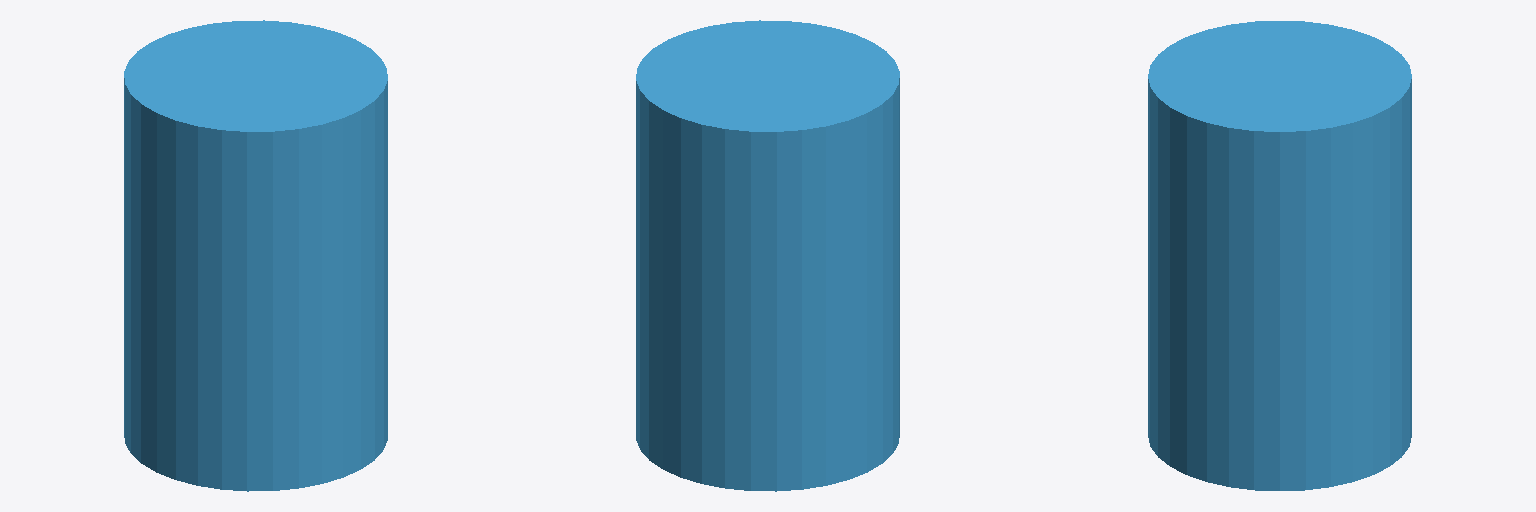
URDF robot description (hungry-toaster):
<robot name="hungry-toaster">
  <link name="base_link">
    <visual>
      <origin rpy="0 0 0" xyz="0.0 0 0.0"/>
      <geometry>
        <mesh filename="package://hungry-toaster_description/meshes/hungry-toaster-meters.stl"/>
      </geometry>
    </visual>
  </link>

  <joint name="base_link_to_laser" type="fixed">
    <parent link="base_link"/>
    <child link="Laser"/>
    <origin xyz="0 0 1.0"/>
  </joint>

  <link name="Laser">
    <visual>
      <origin rpy="0 0 0" xyz="0 0 0"/>
      <geometry>
        <cylinder length="0.6" radius="0.2"/>
      </geometry>
    </visual>
  </link>
</robot>

--- What the picture shows (computed from the rendered views, not written in the file) ---
The picture shows the robot from 3 angles, left to right: view 1: azimuth 30°, elevation 25°; view 2: azimuth 150°, elevation 25°; view 3: azimuth 270°, elevation 25°; orthographic projection.
Model hungry-toaster with 2 links and 1 joints (1 fixed), rooted at base_link, posed every joint at zero.
Links seen in each view (by area): view 1: Laser; view 2: Laser; view 3: Laser.
Boxes of the visible links, <box> form: Laser: <box>124,20,387,491</box>; Laser: <box>636,20,899,491</box>; Laser: <box>1148,21,1411,490</box>.
Bounding box of the posed robot: 0.4 × 0.4 × 0.6 m (x, y, z).
Meshes: 1 distinct files referenced, 0 mesh visuals loaded (none loaded); not drawn: 1 (reference not matched to a file when rendering).